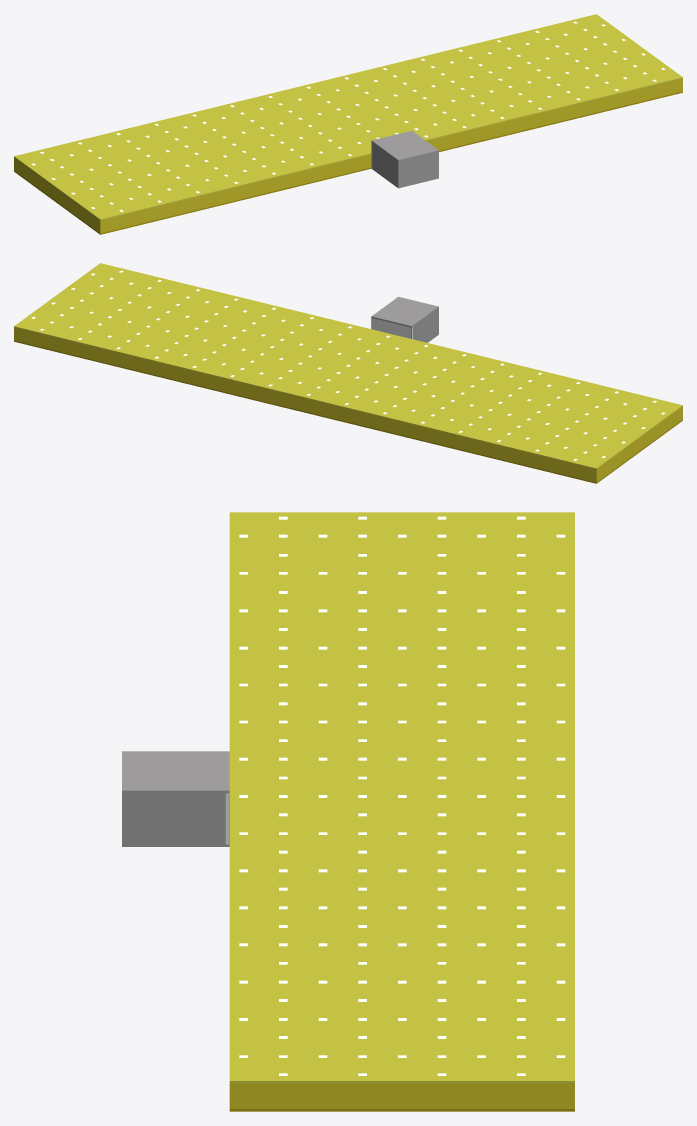
The model's file is project_kv31_the_backrooms.glb.
3 renders of one model, top to bottom at view 1: azimuth 30°, elevation 25°; view 2: azimuth 150°, elevation 25°; view 3: azimuth 270°, elevation 25°, orthographic. The views are drawn at different scales.
Parts seen in each view (by area): view 1: Object_3, Object_6, Object_2, Object_7, Object_5; view 2: Object_3, Object_6, Object_7, Object_2, Object_5, Object_4; view 3: Object_3, Object_2, Object_6, Object_7, Object_5.
Part boxes in pixels (x1=…): Object_3: x1=14, y1=14, x2=682, y2=220; Object_6: x1=14, y1=78, x2=682, y2=233; Object_2: x1=371, y1=130, x2=438, y2=188; Object_7: x1=31, y1=21, x2=665, y2=211; Object_5: x1=14, y1=91, x2=682, y2=234; Object_3: x1=14, y1=263, x2=682, y2=469; Object_6: x1=14, y1=327, x2=682, y2=482; Object_7: x1=31, y1=270, x2=665, y2=460; Object_2: x1=371, y1=296, x2=438, y2=342; Object_5: x1=14, y1=340, x2=682, y2=483; Object_4: x1=372, y1=318, x2=412, y2=339; Object_3: x1=229, y1=512, x2=574, y2=1083; Object_2: x1=122, y1=751, x2=229, y2=846; Object_6: x1=229, y1=1083, x2=574, y2=1108; Object_7: x1=239, y1=516, x2=565, y2=1075; Object_5: x1=229, y1=1109, x2=574, y2=1111.
Bounding box in the file's own units: 158 × 7.33 × 53.33.
